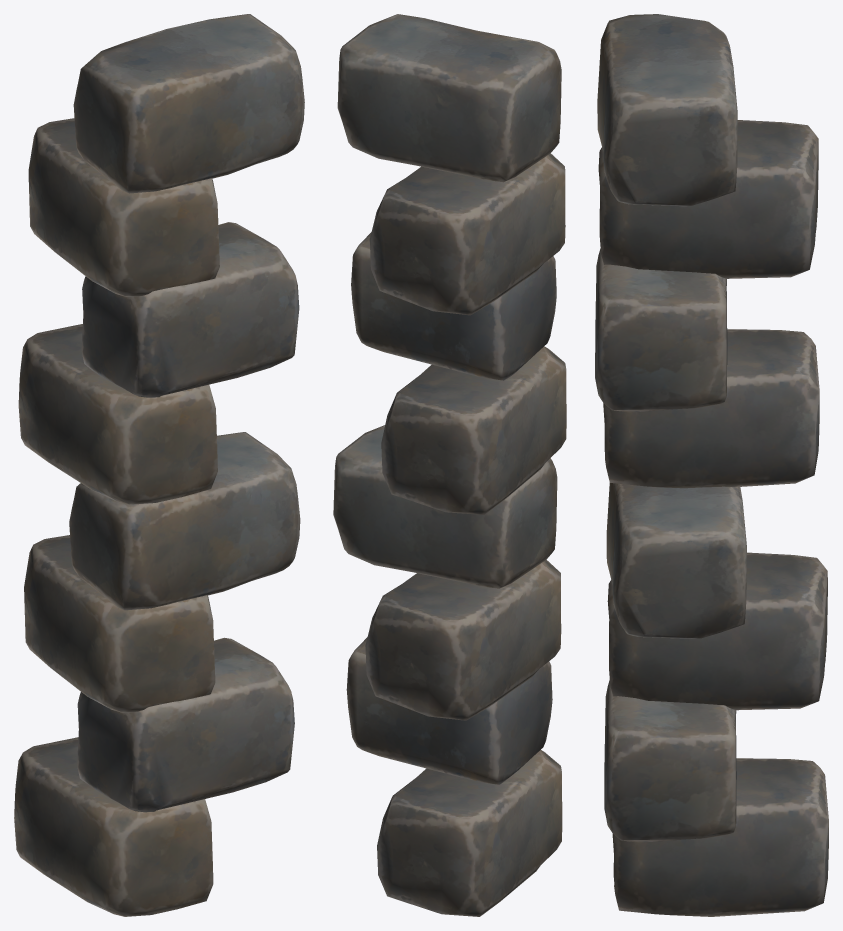
File: mesh_blockRowcorner.fbx
3 renders of one model, left to right at view 1: azimuth 30°, elevation 25°; view 2: azimuth 150°, elevation 25°; view 3: azimuth 270°, elevation 25°, orthographic. The views are drawn at different scales.
Visible parts, largest first — view 1: Object115; view 2: Object115; view 3: Object115.
Boxes of the visible parts, x1,y1,x2,y2 form: Object115: (14, 14, 304, 916); Object115: (333, 14, 566, 916); Object115: (595, 14, 828, 916).
Size of the model in its own units: 97.45 by 400 by 97.83.
